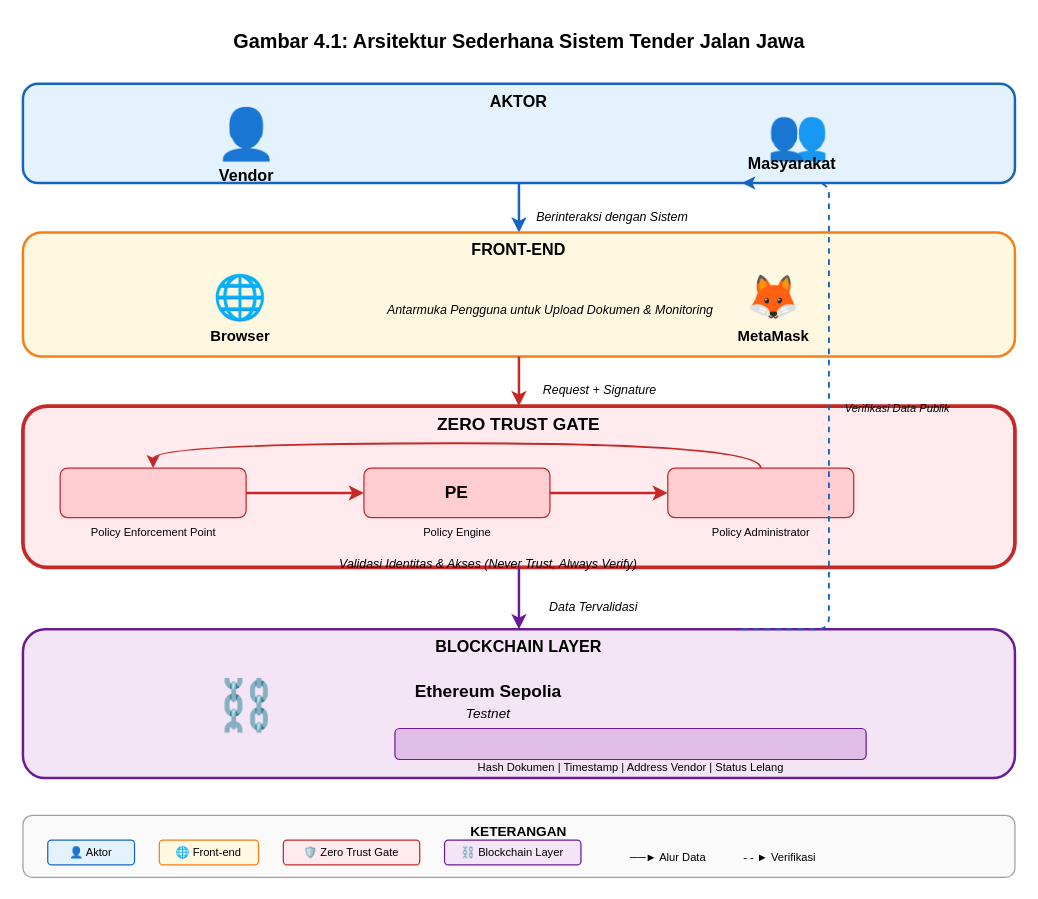
This 1038x899 diagram has some shape labels left out. Here are the shapes that lost their labels. From the top down, the centre of each, then its label:
At (x=152, y=492): "PEP".
At (x=760, y=492): "PA".
At (x=630, y=743): "📦 Tempat Penyimpanan Data Penawaran (Immutable)".
